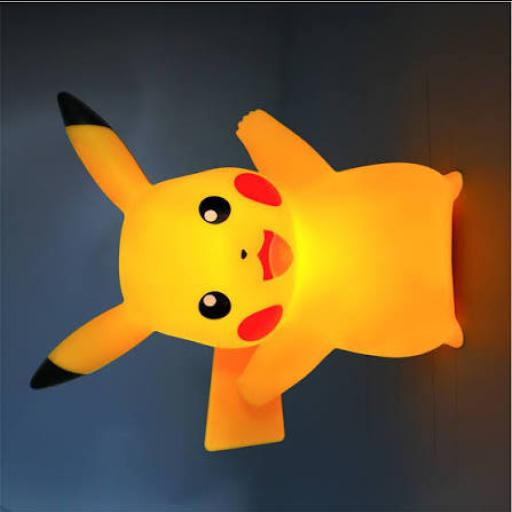Pikachu: (31, 88, 463, 450)
